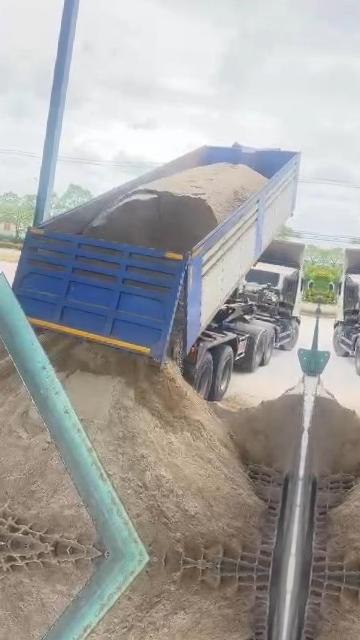sand: (31, 324, 263, 561), (0, 327, 94, 544), (83, 163, 267, 253), (214, 391, 302, 473), (171, 289, 183, 352)
